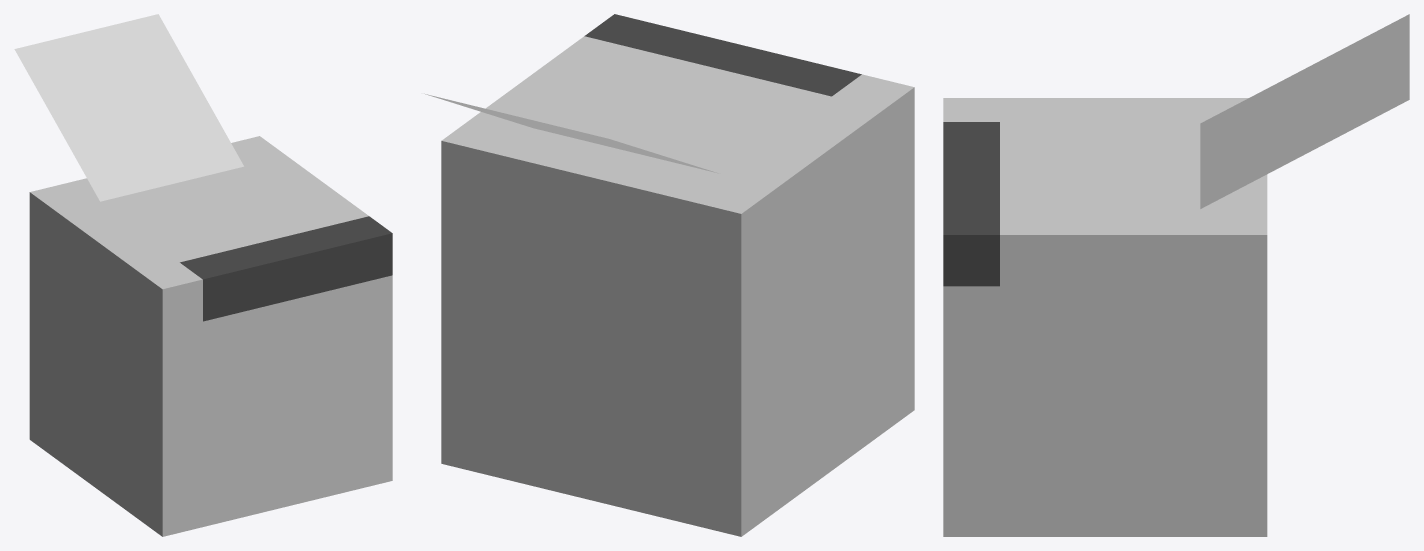
The model's file is print.FBX.
3 views of the same model, side by side, from view 1: azimuth 30°, elevation 25°; view 2: azimuth 150°, elevation 25°; view 3: azimuth 270°, elevation 25° (orthographic). The views are drawn at different scales.
Visible parts, largest first — view 1: print; view 2: print; view 3: print.
Boxes of the visible parts, x1,y1,x2,y2 form: print: (14, 14, 392, 536); print: (424, 14, 914, 536); print: (943, 14, 1409, 536).
Size of the model in its own units: 5.76 by 8.08 by 8.29.
